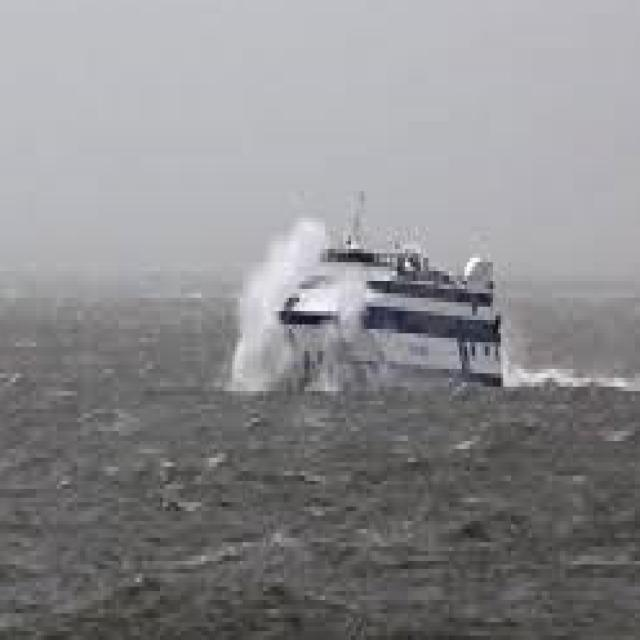passenger ship: (259, 214, 527, 399)
